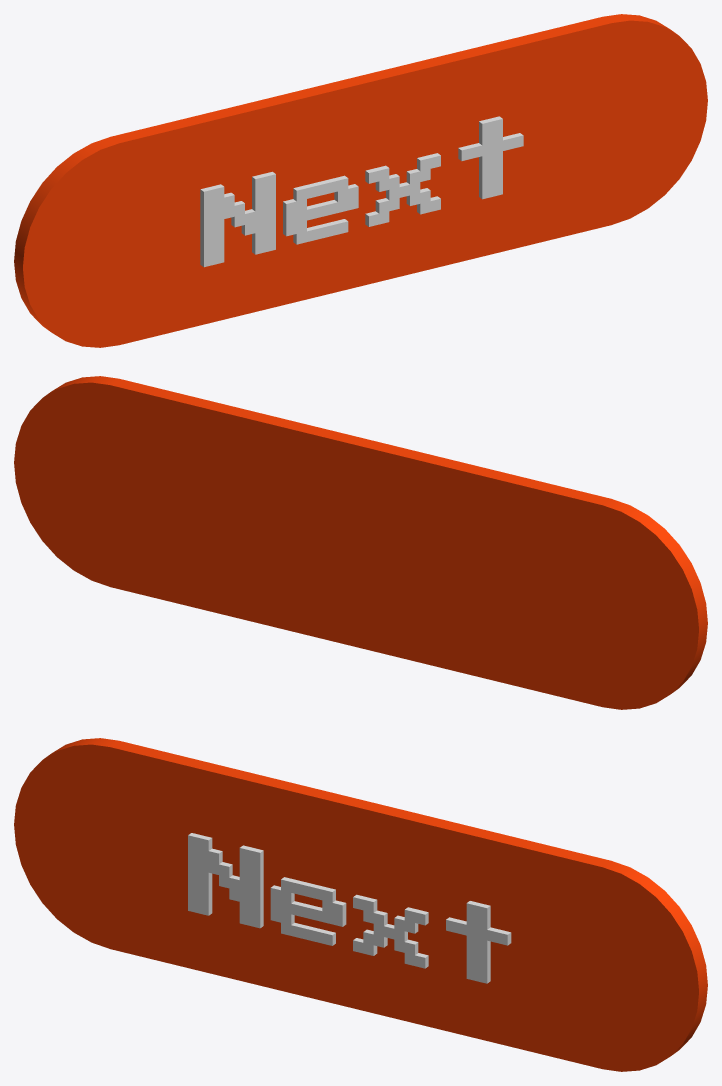
File: next.glb
The picture shows the model from 3 angles, top to bottom: view 1: azimuth 30°, elevation 25°; view 2: azimuth 150°, elevation 25°; view 3: azimuth 330°, elevation 25°; orthographic projection.
Parts seen in each view (by area): view 1: Button-next; view 2: Button-next; view 3: Button-next.
Part boxes in pixels (box(x1,y1,x2,y2)): Button-next: box(14, 14, 707, 347); Button-next: box(14, 376, 707, 709); Button-next: box(14, 738, 707, 1071).
Size of the model in its own units: 1.63 by 0.458 by 0.0505.
